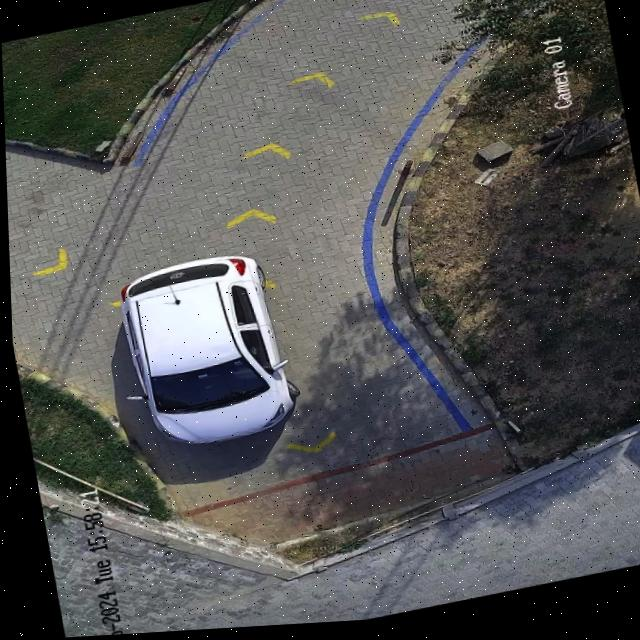car: (119, 259, 295, 445)
